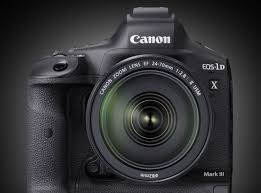camera: (23, 9, 232, 189)
